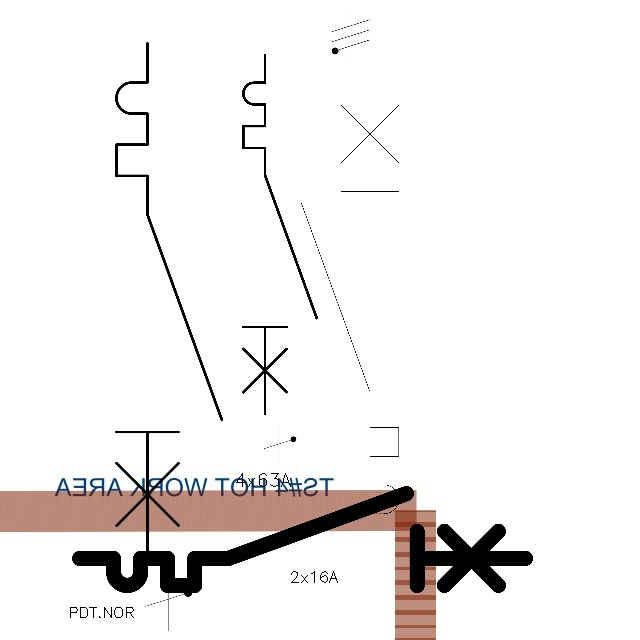interruptor_termomagnetico: (103, 30, 235, 570), (289, 64, 411, 562), (68, 482, 537, 597), (234, 46, 326, 423)
